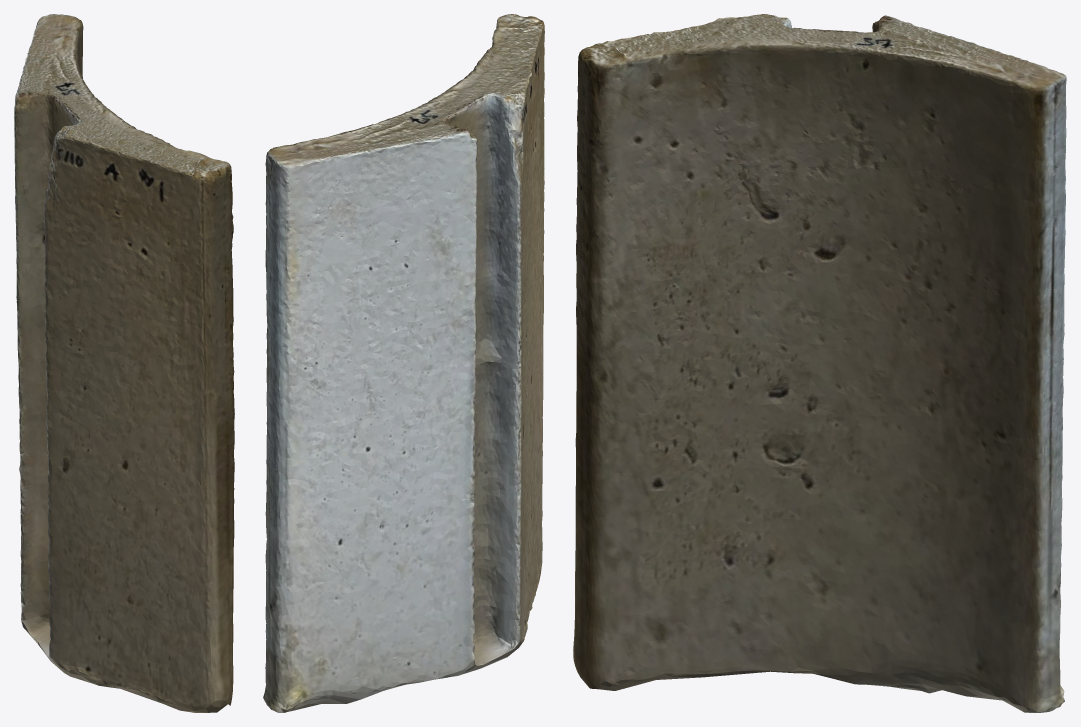
The model's file is Pixel 37.glb.
3 renders of one model, left to right at view 1: azimuth 30°, elevation 25°; view 2: azimuth 150°, elevation 25°; view 3: azimuth 270°, elevation 25°, orthographic. The views are drawn at different scales.
Size of the model in its own units: 0.0728 by 0.2646 by 0.1841.
Materials: 1 (1 with a texture image).
